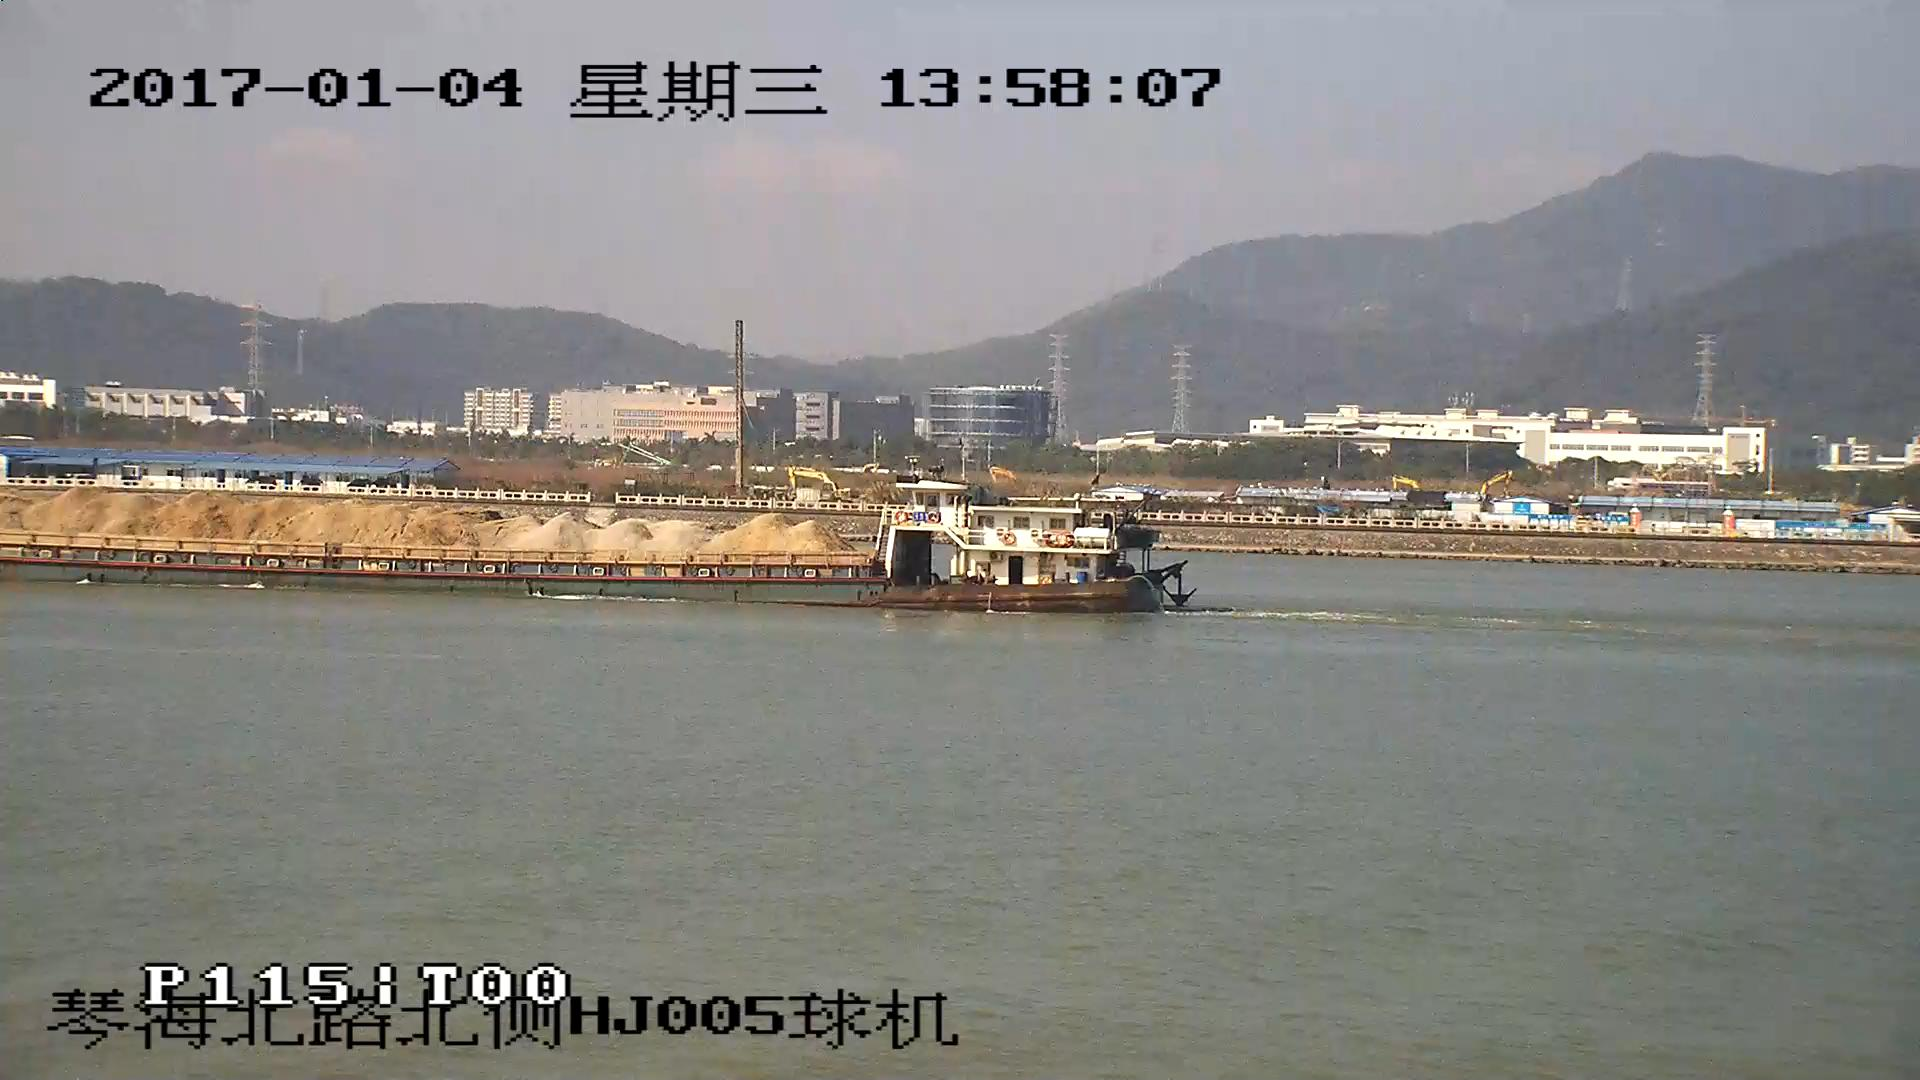ore carrier: (1, 478, 1192, 615)
